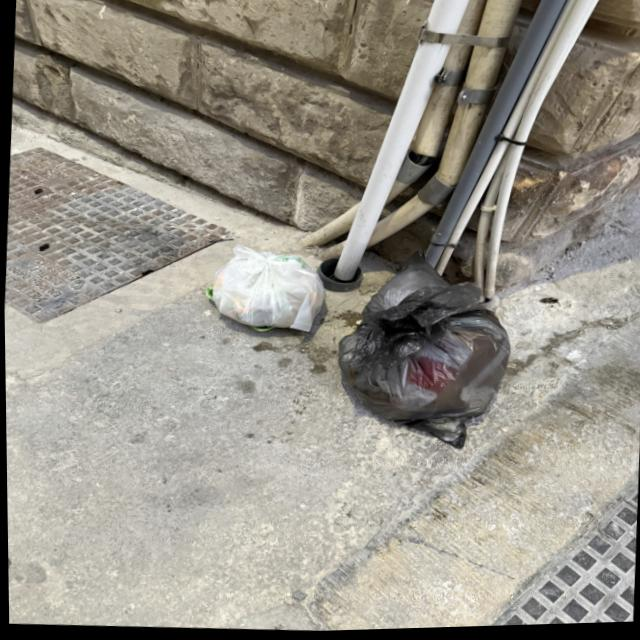Mixed Waste -Black Bags-: (338, 254, 508, 448)
Organic Waste -White Bags-: (212, 246, 323, 334)
